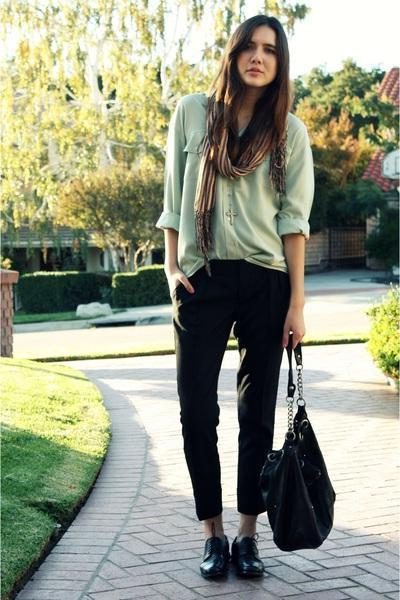long sleeve shirt: (157, 88, 315, 282)
trousers: (167, 263, 302, 528)
